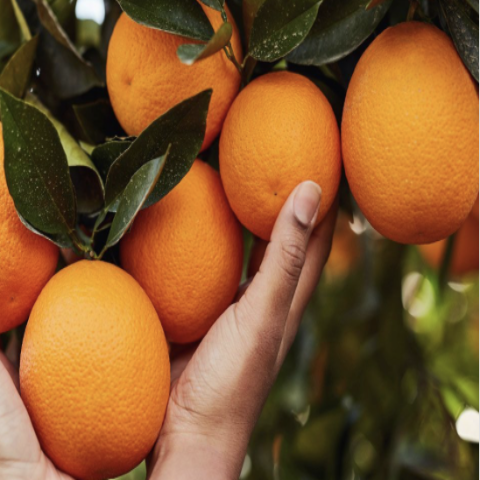orange: (4, 254, 181, 477), (319, 6, 477, 248), (213, 48, 348, 249)
